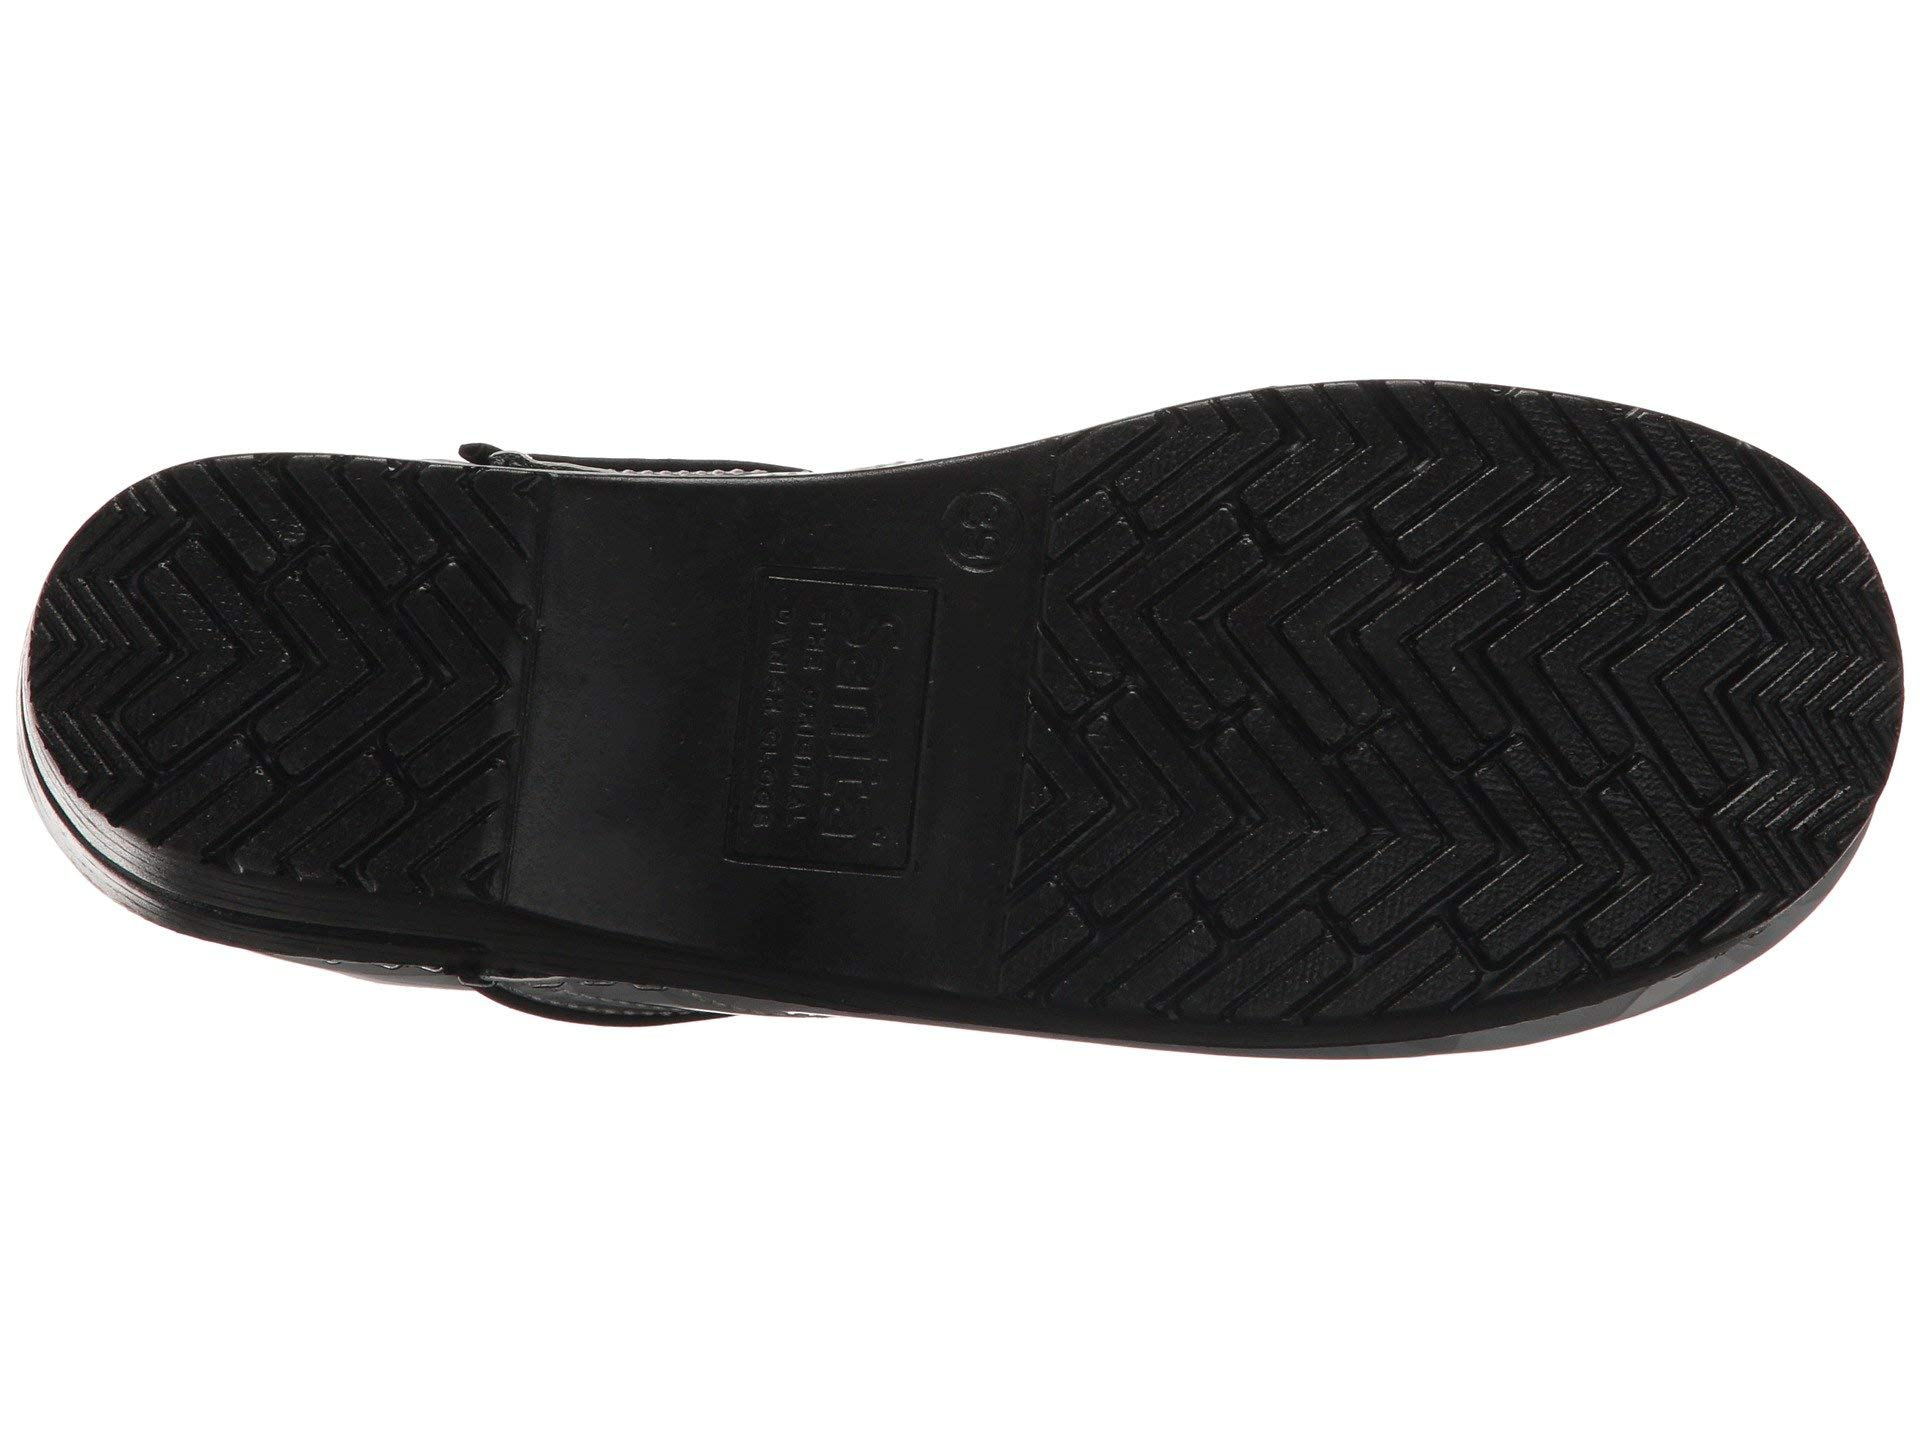chevron: (1123, 442, 1736, 921), (103, 481, 494, 880), (1764, 542, 1876, 853)
circle: (912, 458, 1051, 622)
text: (912, 458, 1051, 622)
